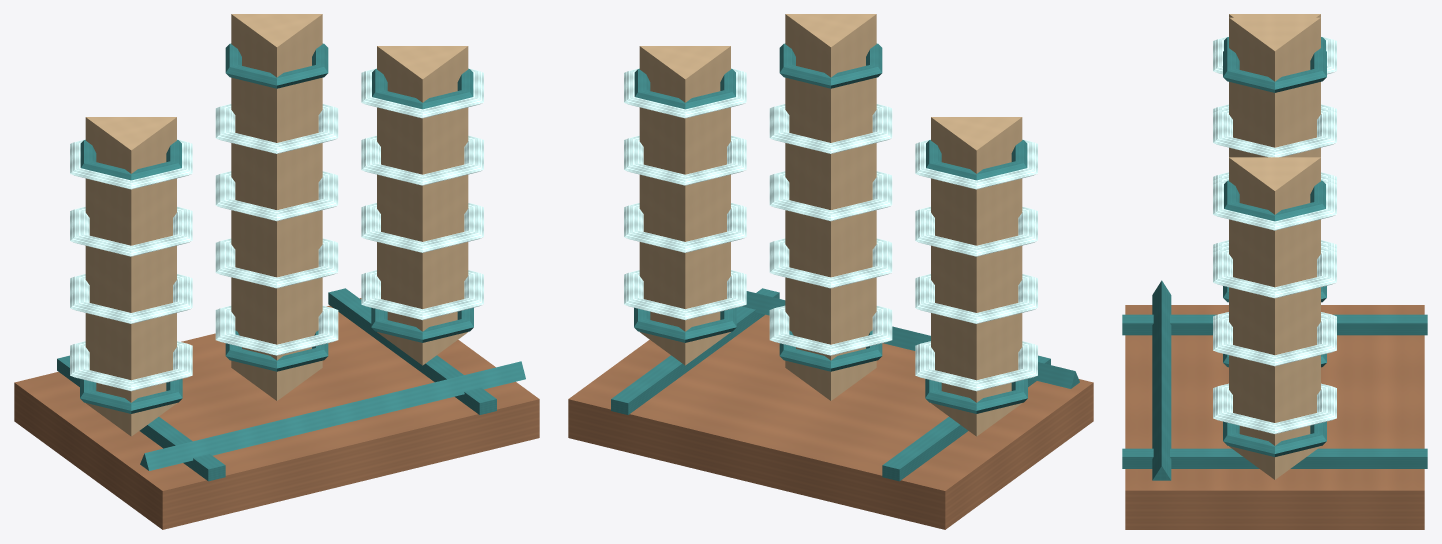
File: atlas100-s094-a01.lod2.glb
3 views of the same model, side by side, from view 1: azimuth 30°, elevation 25°; view 2: azimuth 150°, elevation 25°; view 3: azimuth 270°, elevation 25° (orthographic).
Visible parts, largest first — view 1: atlas100-s094-a01:part-000, atlas100-s094-a01:part-011, atlas100-s094-a01:part-003, atlas100-s094-a01:part-019, atlas100-s094-a01:part-031, atlas100-s094-a01:part-002, atlas100-s094-a01:part-016, atlas100-s094-a01:part-017, atlas100-s094-a01:part-015, atlas100-s094-a01:part-018, atlas100-s094-a01:part-023, atlas100-s094-a01:part-007 (+13 smaller); view 2: atlas100-s094-a01:part-000, atlas100-s094-a01:part-011, atlas100-s094-a01:part-003, atlas100-s094-a01:part-019, atlas100-s094-a01:part-002, atlas100-s094-a01:part-016, atlas100-s094-a01:part-017, atlas100-s094-a01:part-015, atlas100-s094-a01:part-018, atlas100-s094-a01:part-023, atlas100-s094-a01:part-007, atlas100-s094-a01:part-024 (+13 smaller); view 3: atlas100-s094-a01:part-000, atlas100-s094-a01:part-019, atlas100-s094-a01:part-011, atlas100-s094-a01:part-002, atlas100-s094-a01:part-031, atlas100-s094-a01:part-001, atlas100-s094-a01:part-024, atlas100-s094-a01:part-023, atlas100-s094-a01:part-025, atlas100-s094-a01:part-018, atlas100-s094-a01:part-013, atlas100-s094-a01:part-020 (+4 smaller).
Part boxes in pixels (x1=…): atlas100-s094-a01:part-000: x1=14, y1=298, x2=539, y2=529; atlas100-s094-a01:part-011: x1=231, y1=14, x2=322, y2=400; atlas100-s094-a01:part-003: x1=85, y1=117, x2=176, y2=436; atlas100-s094-a01:part-019: x1=377, y1=46, x2=468, y2=365; atlas100-s094-a01:part-031: x1=140, y1=361, x2=525, y2=470; atlas100-s094-a01:part-002: x1=328, y1=288, x2=496, y2=414; atlas100-s094-a01:part-016: x1=215, y1=238, x2=338, y2=288; atlas100-s094-a01:part-017: x1=215, y1=171, x2=338, y2=221; atlas100-s094-a01:part-015: x1=215, y1=305, x2=338, y2=355; atlas100-s094-a01:part-018: x1=215, y1=104, x2=338, y2=153; atlas100-s094-a01:part-023: x1=361, y1=270, x2=483, y2=320; atlas100-s094-a01:part-007: x1=70, y1=341, x2=192, y2=391; atlas100-s094-a01:part-000: x1=568, y1=314, x2=1093, y2=529; atlas100-s094-a01:part-011: x1=785, y1=14, x2=876, y2=400; atlas100-s094-a01:part-003: x1=931, y1=117, x2=1022, y2=436; atlas100-s094-a01:part-019: x1=639, y1=46, x2=730, y2=365; atlas100-s094-a01:part-002: x1=611, y1=288, x2=779, y2=414; atlas100-s094-a01:part-016: x1=769, y1=238, x2=892, y2=288; atlas100-s094-a01:part-017: x1=769, y1=171, x2=892, y2=221; atlas100-s094-a01:part-015: x1=769, y1=305, x2=892, y2=355; atlas100-s094-a01:part-018: x1=769, y1=104, x2=892, y2=153; atlas100-s094-a01:part-023: x1=624, y1=270, x2=746, y2=320; atlas100-s094-a01:part-007: x1=915, y1=341, x2=1037, y2=391; atlas100-s094-a01:part-024: x1=624, y1=203, x2=746, y2=252; atlas100-s094-a01:part-000: x1=1125, y1=305, x2=1424, y2=529; atlas100-s094-a01:part-019: x1=1229, y1=157, x2=1320, y2=479; atlas100-s094-a01:part-011: x1=1229, y1=17, x2=1320, y2=157; atlas100-s094-a01:part-002: x1=1122, y1=448, x2=1427, y2=468; atlas100-s094-a01:part-031: x1=1152, y1=280, x2=1171, y2=480; atlas100-s094-a01:part-001: x1=1122, y1=314, x2=1427, y2=335; atlas100-s094-a01:part-024: x1=1213, y1=315, x2=1336, y2=366; atlas100-s094-a01:part-023: x1=1213, y1=383, x2=1336, y2=433; atlas100-s094-a01:part-025: x1=1213, y1=248, x2=1336, y2=298; atlas100-s094-a01:part-018: x1=1213, y1=108, x2=1336, y2=157; atlas100-s094-a01:part-013: x1=1223, y1=47, x2=1326, y2=92; atlas100-s094-a01:part-020: x1=1223, y1=421, x2=1326, y2=456.
Bounding box in the file's own units: 2.9 × 2.71 × 1.84.
Materials: 4 (4 with a texture image).
